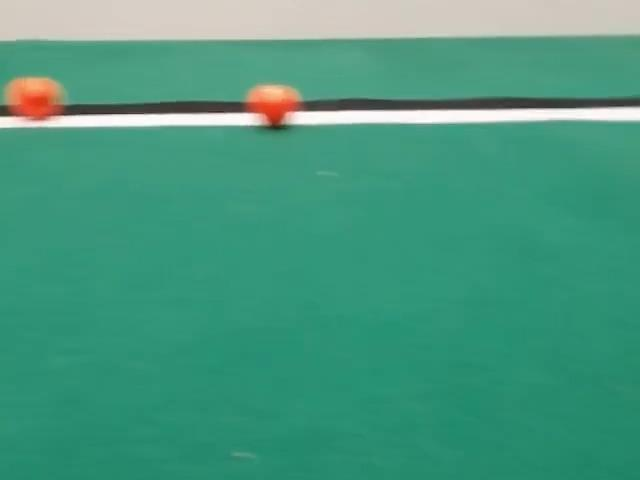Ball: (5, 77, 64, 120), (246, 84, 301, 126)
